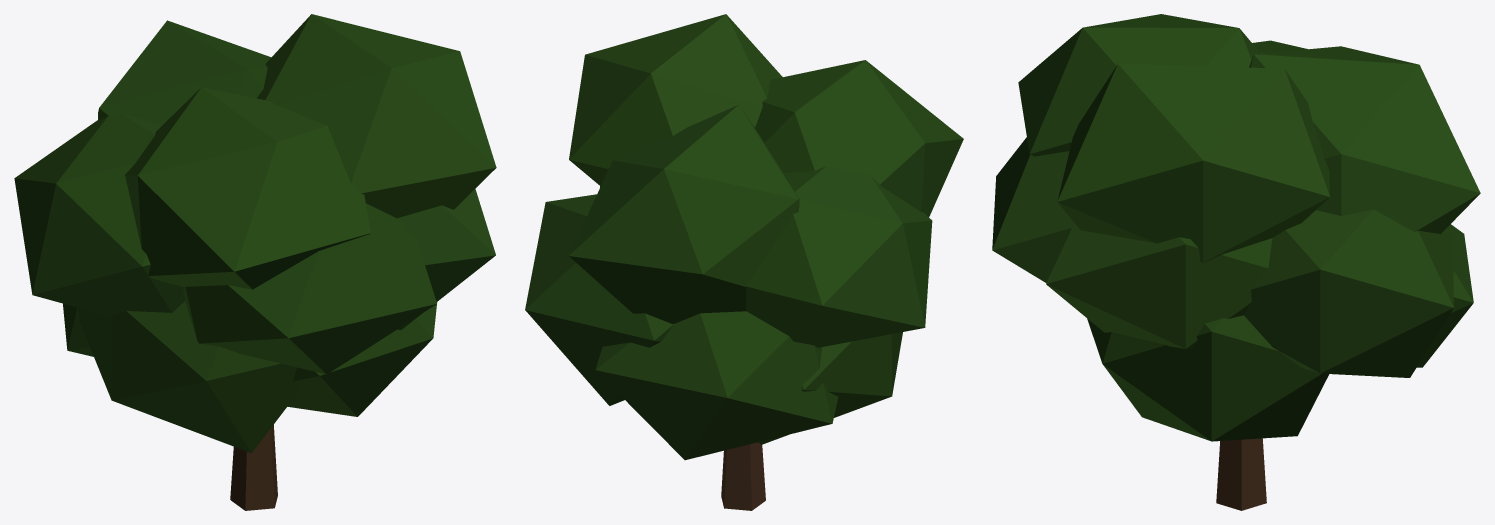
Rendered from tree_maple_dense.glb.
3 views of the same model, side by side, from view 1: azimuth 30°, elevation 25°; view 2: azimuth 150°, elevation 25°; view 3: azimuth 270°, elevation 25° (orthographic). The views are drawn at different scales.
Parts seen in each view (by area): view 1: tree_photo_dense; view 2: tree_photo_dense; view 3: tree_photo_dense.
Part boxes in pixels (bbox=[...]): tree_photo_dense: bbox=[14, 14, 496, 510]; tree_photo_dense: bbox=[525, 14, 963, 510]; tree_photo_dense: bbox=[992, 14, 1480, 510].
Size of the model in its own units: 0.6218 by 0.6881 by 0.6419.
